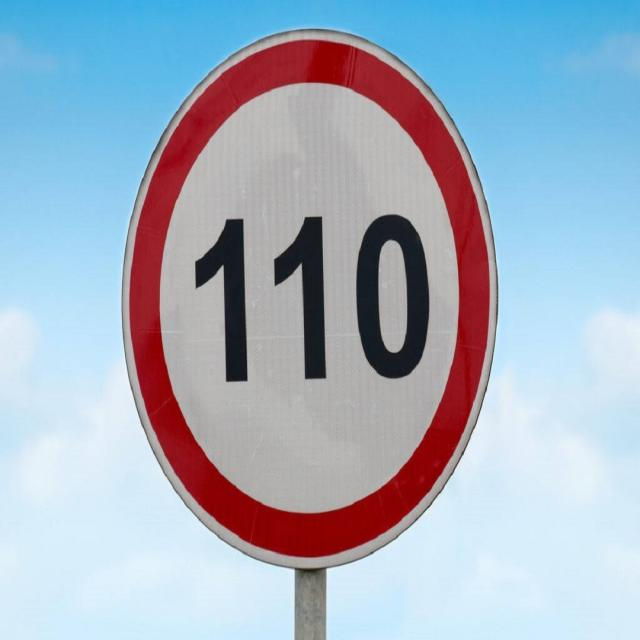speed limit 110: (119, 29, 501, 568)
